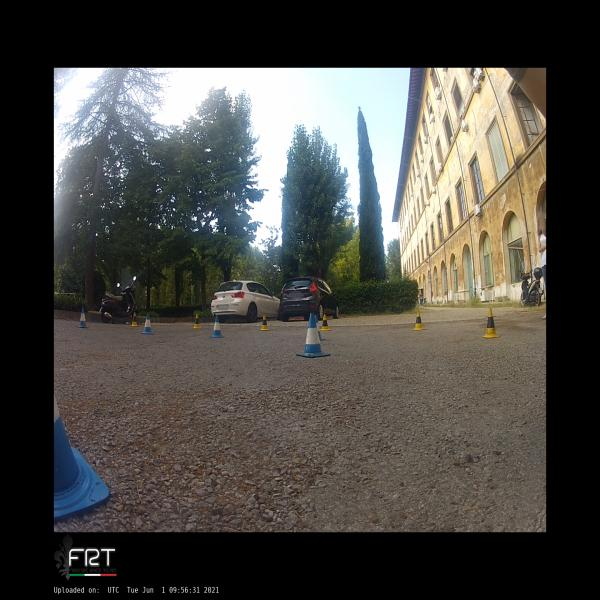blue_cone: (54, 389, 110, 520), (297, 314, 331, 358), (209, 315, 225, 338), (314, 313, 326, 341), (77, 307, 89, 328), (142, 312, 153, 334)
yellow_cone: (481, 308, 501, 338), (412, 309, 426, 331), (319, 312, 331, 332), (260, 315, 270, 331), (129, 312, 139, 326), (193, 314, 202, 329)
